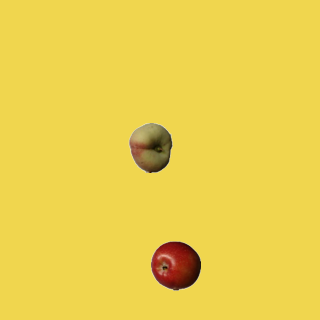Apple Braeburn: (150, 240, 200, 290)
Peach Flat: (125, 122, 175, 172)
